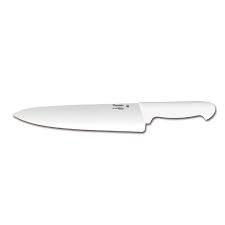Knife: (12, 100, 216, 133)
